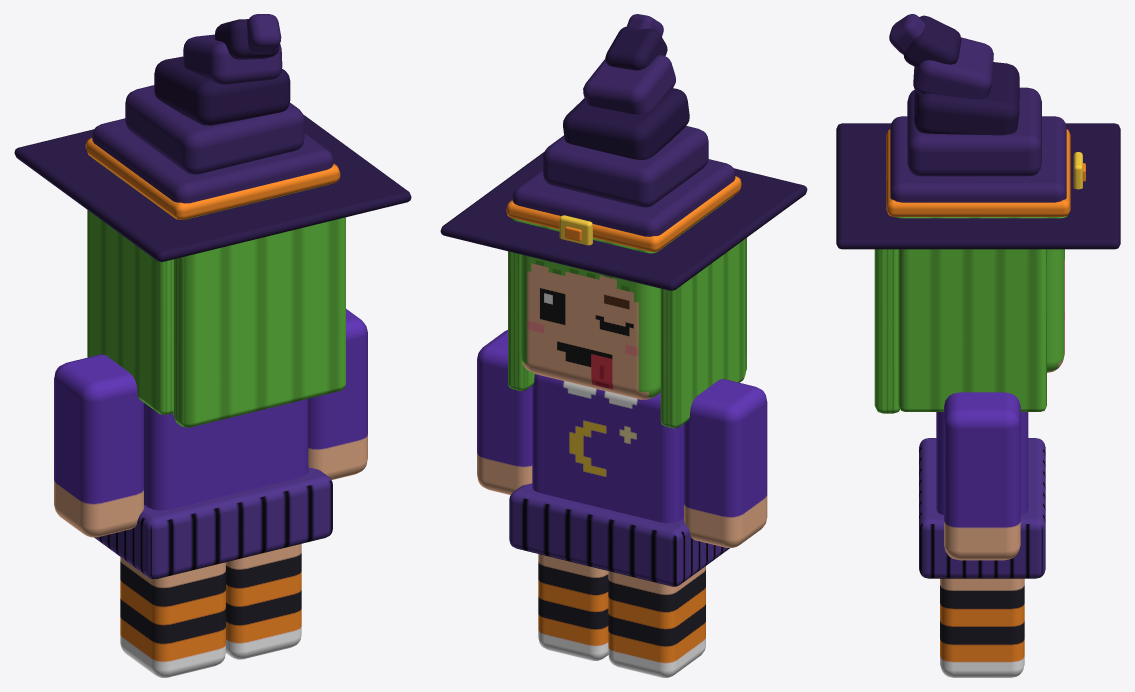
The model's file is witch-DxsBXkpR.glb.
3 views of the same model, side by side, from view 1: azimuth 30°, elevation 25°; view 2: azimuth 150°, elevation 25°; view 3: azimuth 270°, elevation 25° (orthographic). The views are drawn at different scales.
Visible parts, largest first — view 1: neck_mesh, hips_mesh, armL_mesh, legL_mesh, legR_mesh, armR_mesh; view 2: neck_mesh, hips_mesh, armL_mesh, legL_mesh, armR_mesh, legR_mesh; view 3: neck_mesh, armR_mesh, hips_mesh, legR_mesh.
Boxes of the visible parts, left/top/right/bottom form: neck_mesh: left=14, top=14, right=411, bottom=427; hips_mesh: left=94, top=399, right=332, bottom=578; armL_mesh: left=54, top=354, right=143, bottom=537; legL_mesh: left=120, top=557, right=225, bottom=677; legR_mesh: left=226, top=544, right=301, bottom=659; armR_mesh: left=308, top=309, right=367, bottom=479; neck_mesh: left=440, top=14, right=807, bottom=428; hips_mesh: left=509, top=374, right=729, bottom=586; armL_mesh: left=684, top=379, right=767, bottom=547; legL_mesh: left=608, top=566, right=705, bottom=677; armR_mesh: left=477, top=330, right=532, bottom=494; legR_mesh: left=538, top=554, right=608, bottom=660; neck_mesh: left=836, top=14, right=1120, bottom=413; armR_mesh: left=944, top=392, right=1020, bottom=560; hips_mesh: left=919, top=412, right=1045, bottom=578; legR_mesh: left=940, top=578, right=1024, bottom=677.
Size of the model in its own units: 1.66 by 3.66 by 1.48.
Materials: 1 (1 with a texture image).
